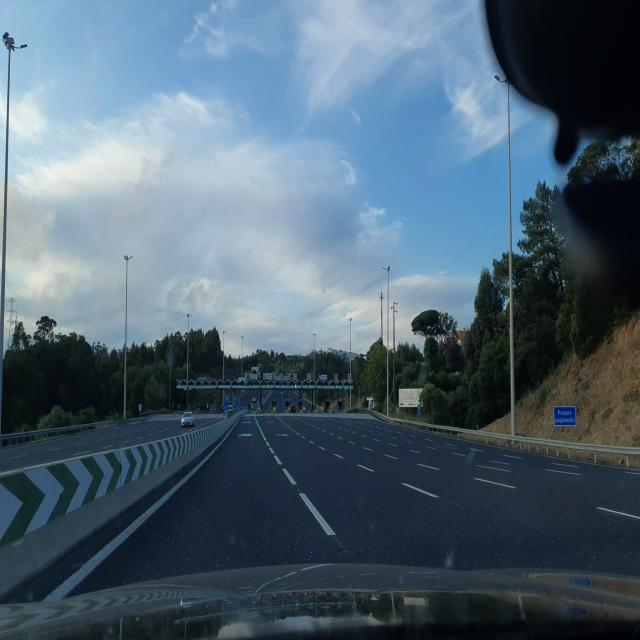car: (181, 411, 195, 428)
